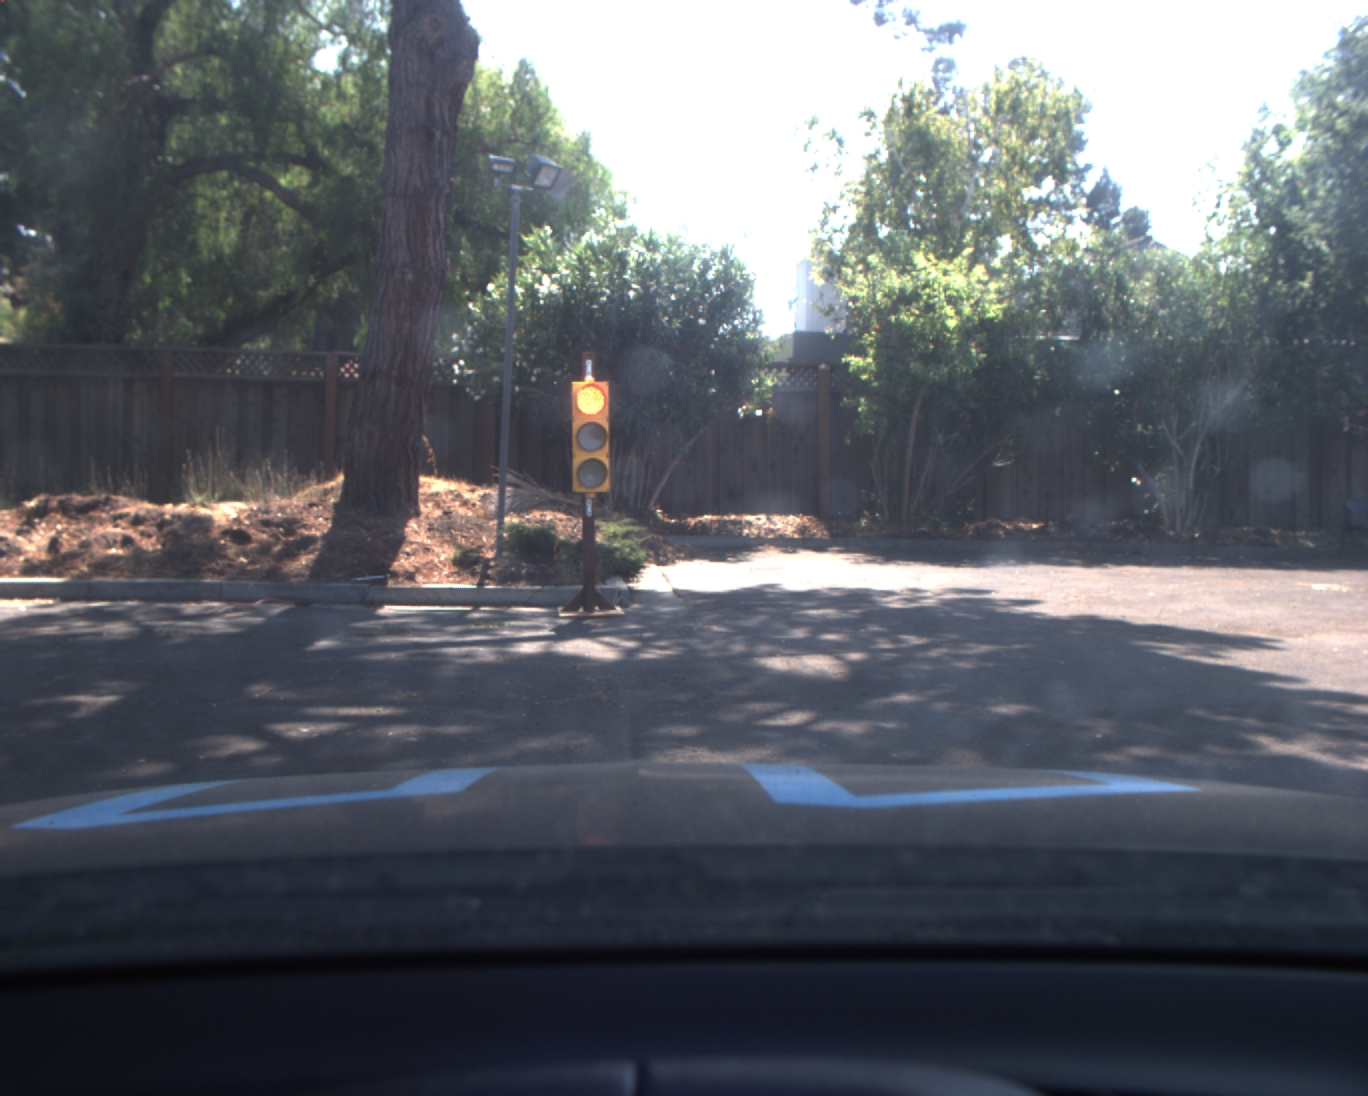red: (572, 377, 617, 494)
